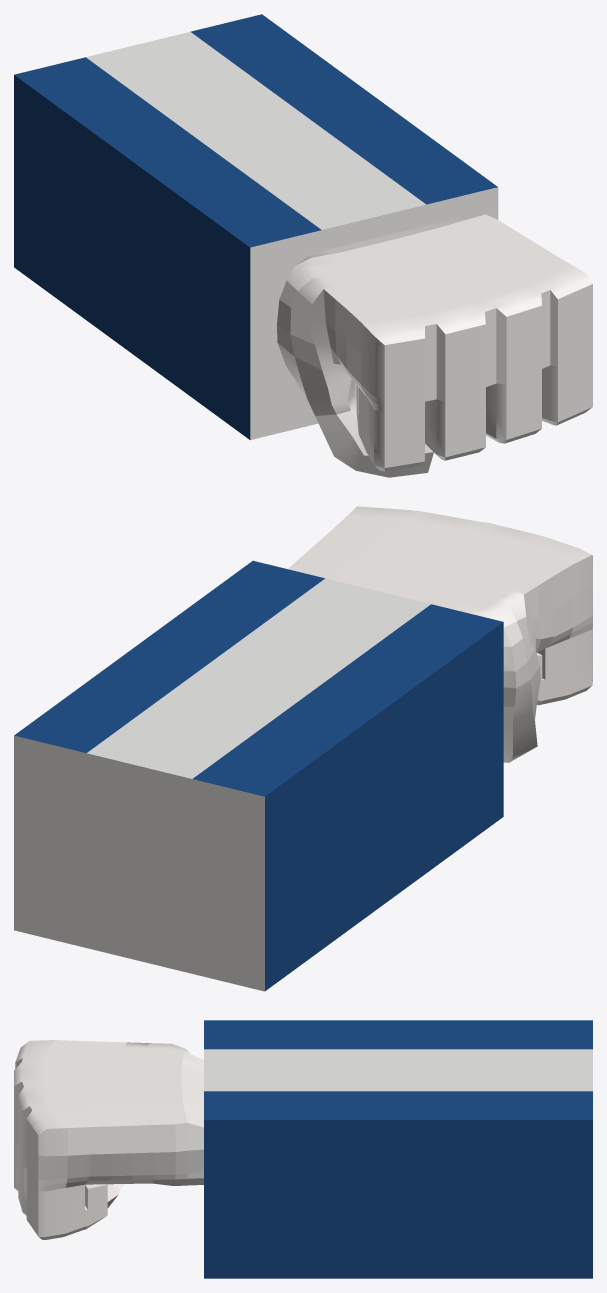
Rendered from eraser.fbx.
3 renders of one model, top to bottom at view 1: azimuth 30°, elevation 25°; view 2: azimuth 150°, elevation 25°; view 3: azimuth 270°, elevation 25°, orthographic. The views are drawn at different scales.
Parts seen in each view (by area): view 1: polySurface35; view 2: polySurface35; view 3: polySurface35.
Part boxes in pixels (x1,y1,x2,y2): polySurface35: [14, 14, 592, 477]; polySurface35: [14, 506, 592, 991]; polySurface35: [14, 1020, 592, 1278].
Bounding box in the file's own units: 38.03 × 29.12 × 93.37.
